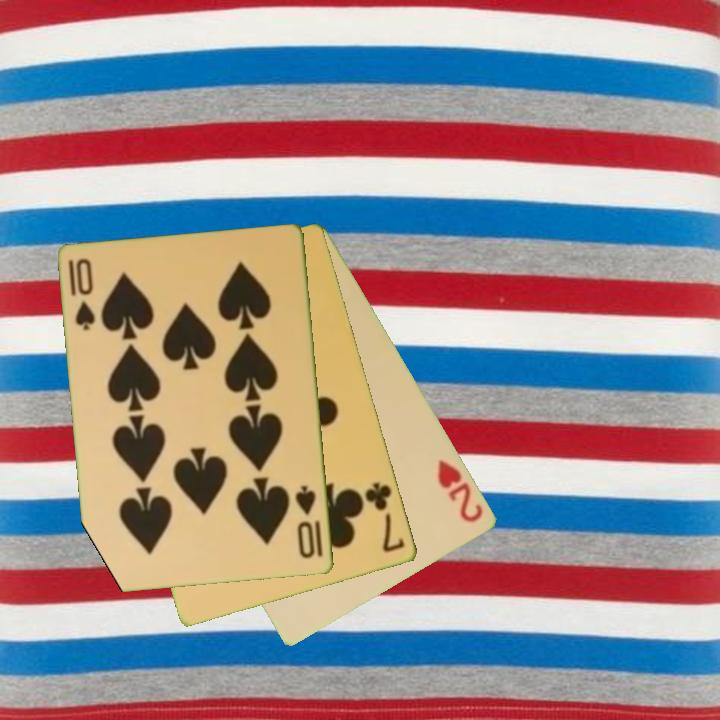10s: (65, 255, 99, 333), (292, 482, 320, 562)
2h: (434, 456, 487, 526)
7c: (362, 479, 408, 556)
